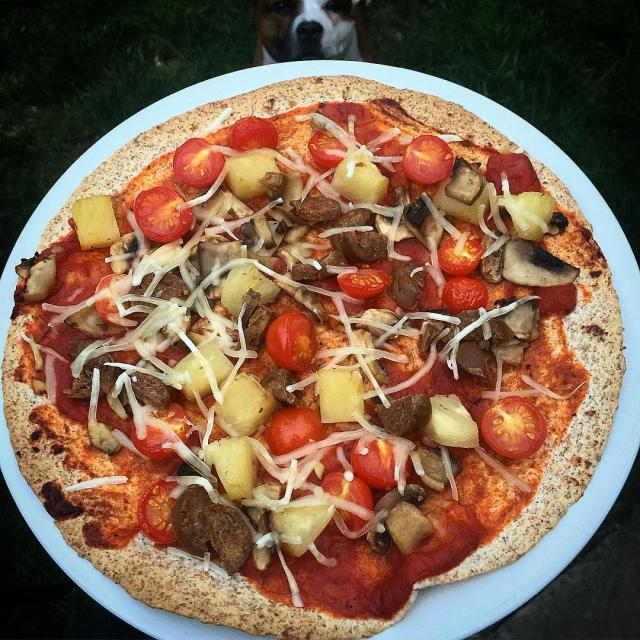mushrooms: (366, 478, 438, 554), (499, 233, 582, 286), (493, 292, 540, 360), (194, 239, 248, 294), (403, 192, 445, 249), (245, 503, 279, 571), (415, 438, 458, 486), (446, 153, 486, 203), (244, 212, 288, 252), (106, 228, 140, 270), (363, 307, 403, 337)
pizza: (0, 75, 626, 640)
